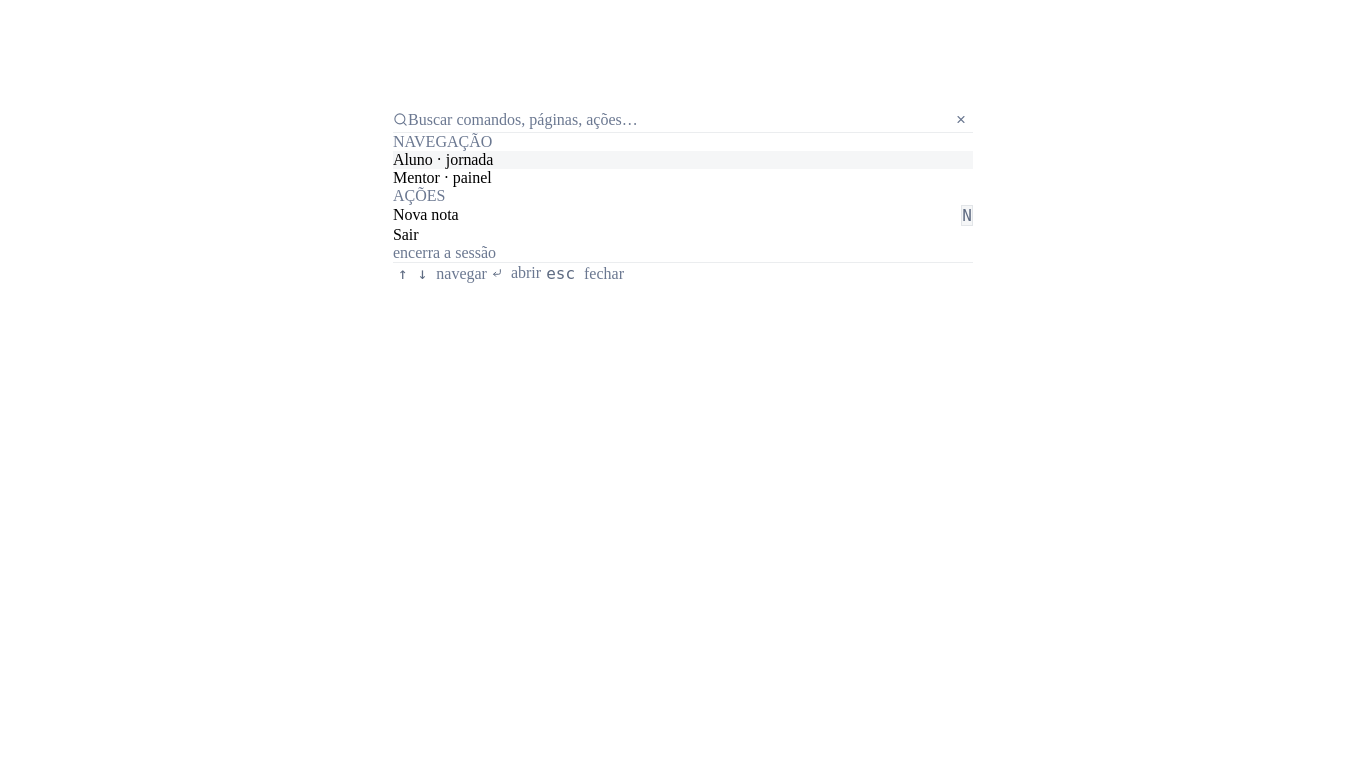
Test case: <Command /> › shows the empty caption when filtering yields no matches
Type "zzzzz" into the field labelled "Buscar" at point(678, 120), box [408,110,949,128]
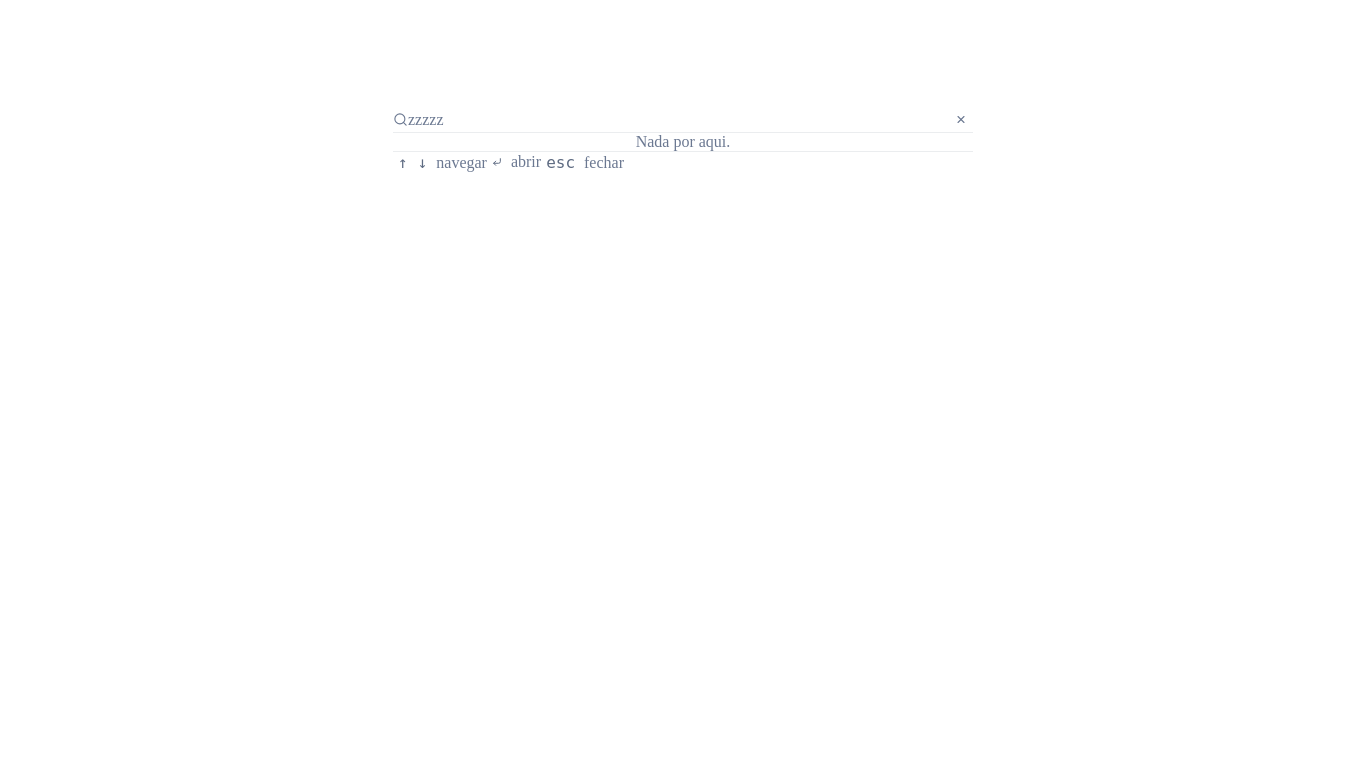
Result: no options are shown
Result: the text "Nada por aqui." is shown at [636,132,730,150]
